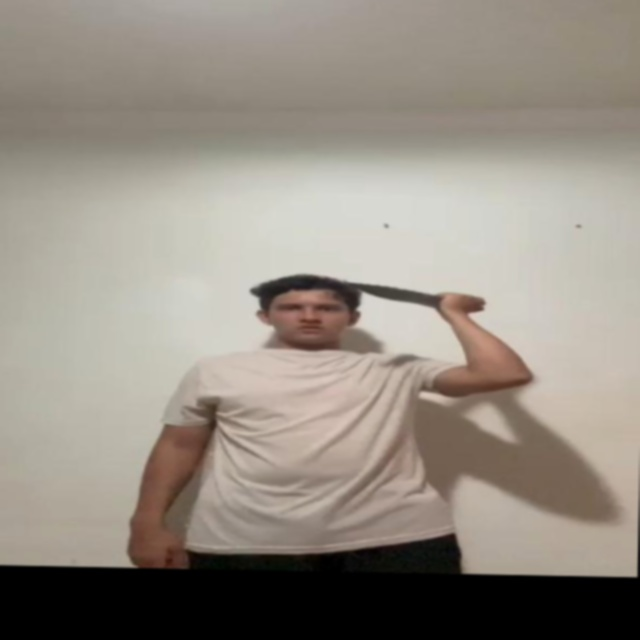Sharp-Object: (352, 282, 442, 307)
